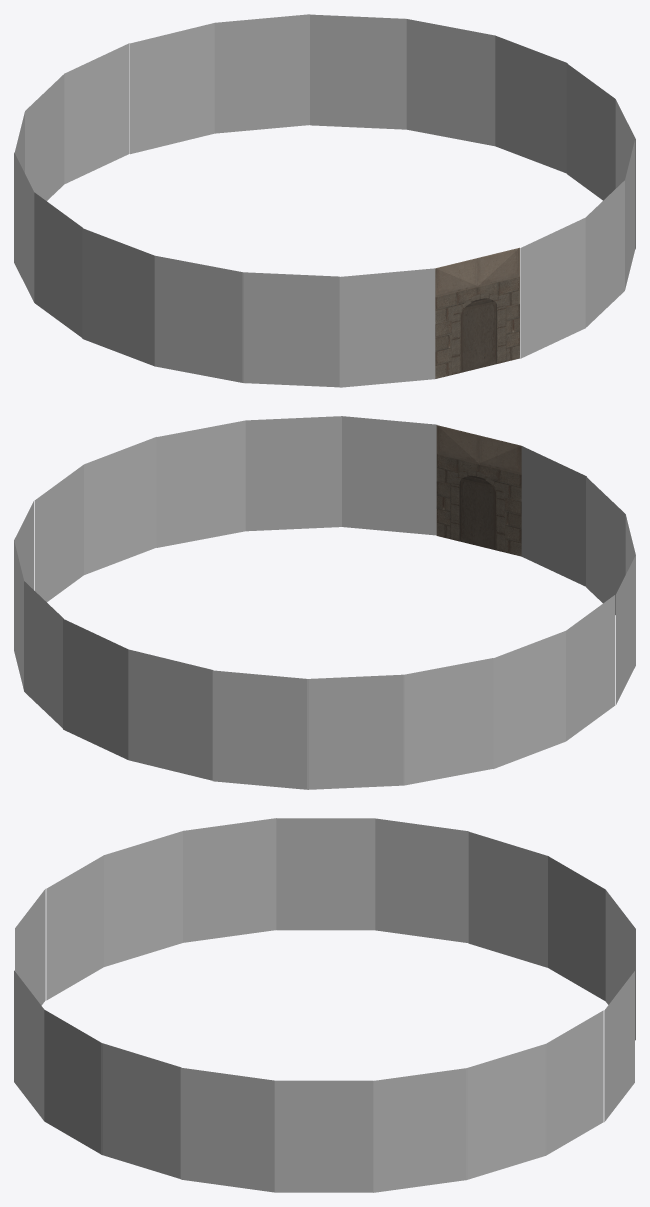
Rendered from coliseum2.obj.
The picture shows the model from 3 angles, top to bottom: view 1: azimuth 30°, elevation 25°; view 2: azimuth 150°, elevation 25°; view 3: azimuth 270°, elevation 25°; orthographic projection.
Parts seen in each view (by area): view 1: 平面.007_平面.001; view 2: 平面.007_平面.001; view 3: 平面.007_平面.001.
Part boxes in pixels (x1,y1,x2,y2): 平面.007_平面.001: [14, 14, 635, 387]; 平面.007_平面.001: [14, 416, 635, 789]; 平面.007_平面.001: [14, 818, 635, 1192].
Bounding box in the file's own units: 755 × 150 × 755.
